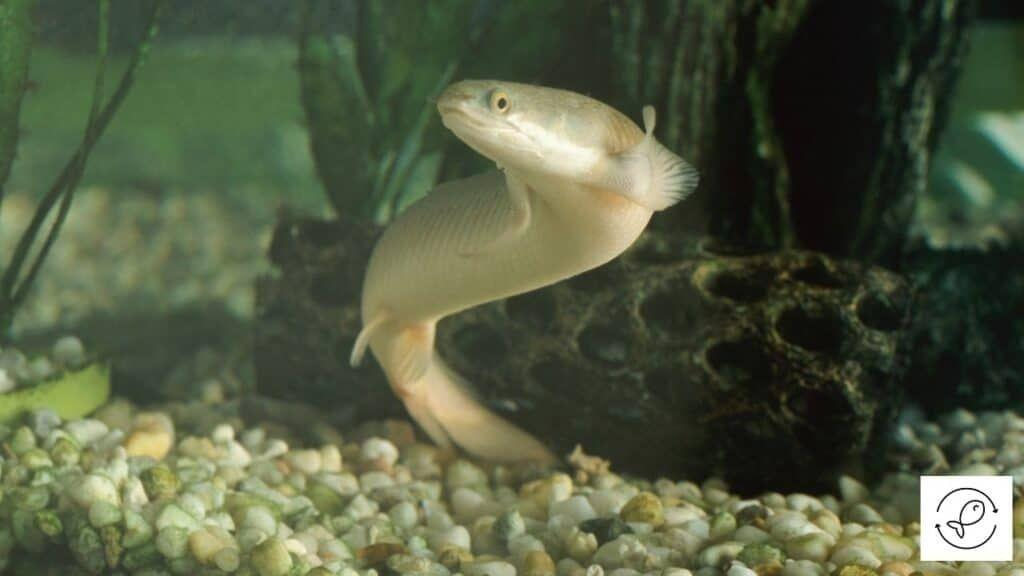Freshwater Eel: (345, 51, 699, 497)
